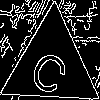C: (26, 40, 76, 99)
